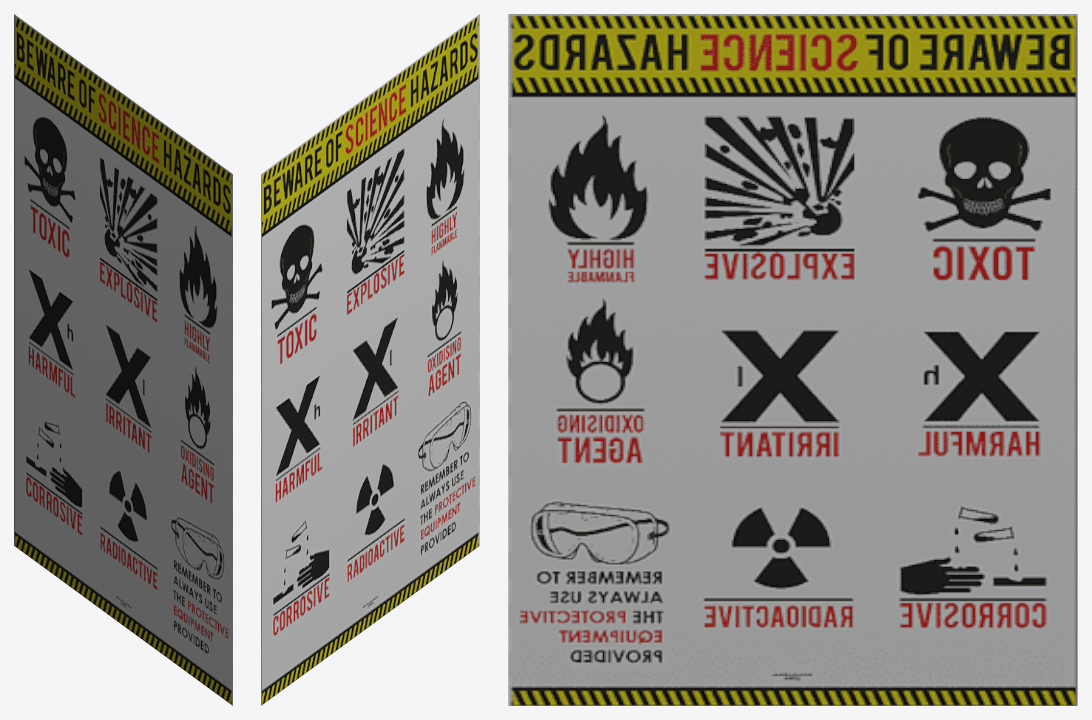
File: poster hazard.fbx
3 views of the same model, side by side, from view 1: azimuth 30°, elevation 25°; view 2: azimuth 150°, elevation 25°; view 3: azimuth 270°, elevation 25° (orthographic). The views are drawn at different scales.
Parts seen in each view (by area): view 1: pPlane9; view 2: pPlane9; view 3: pPlane9.
Boxes of the visible parts, x1=… form: pPlane9: x1=14, y1=14, x2=232, y2=705; pPlane9: x1=261, y1=14, x2=479, y2=705; pPlane9: x1=508, y1=14, x2=1077, y2=705.
Bounding box in the file's own units: 0 × 8.31 × 6.2.
Materials: 1 (1 with a texture image).
